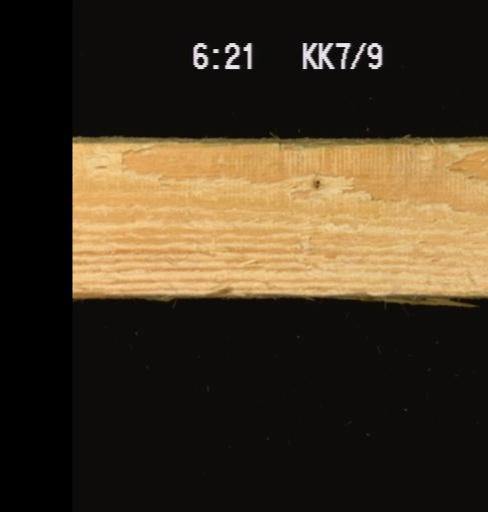small_knot: (307, 174, 324, 191)
